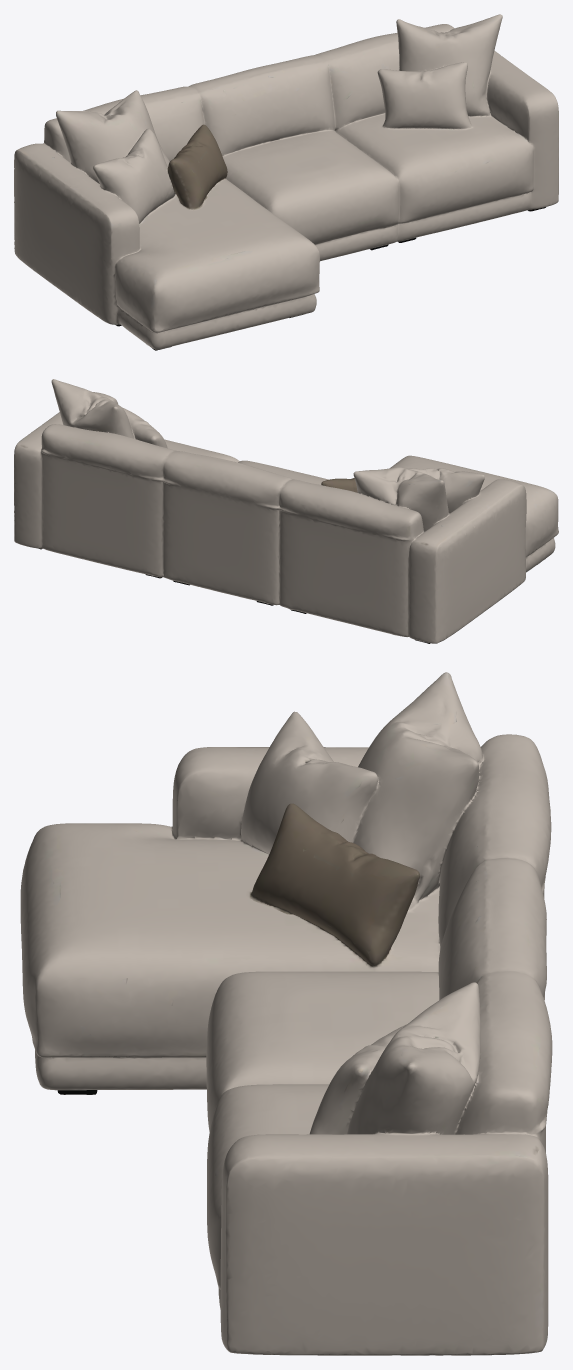
The model's file is sofa_l.glb.
3 renders of one model, top to bottom at view 1: azimuth 30°, elevation 25°; view 2: azimuth 150°, elevation 25°; view 3: azimuth 270°, elevation 25°, orthographic. The views are drawn at different scales.
Parts seen in each view (by area): view 1: world; view 2: world; view 3: world.
Boxes of the visible parts, x1,y1,x2,y2 form: world: (14,14,558,350); world: (14,379,558,643); world: (20,672,552,1355).
Bounding box in the file's own units: 0.995 × 0.3288 × 0.5327.
Materials: 1 (1 with a texture image).
